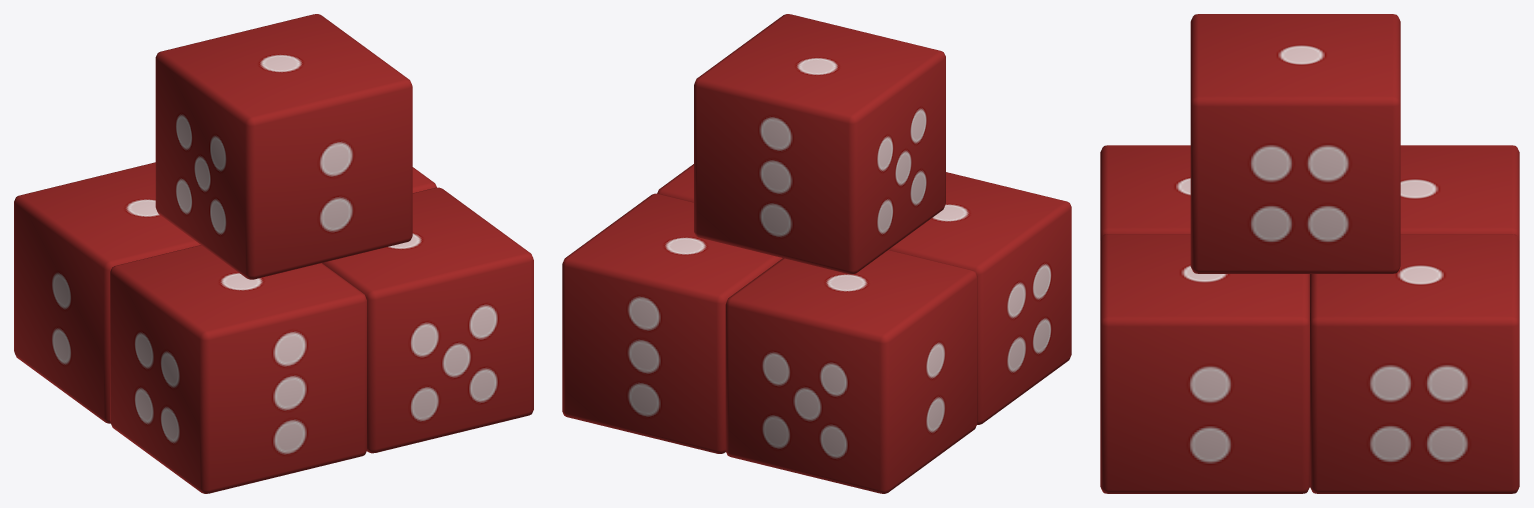
File: dice.FBX
3 views of the same model, side by side, from view 1: azimuth 30°, elevation 25°; view 2: azimuth 150°, elevation 25°; view 3: azimuth 270°, elevation 25° (orthographic). The views are drawn at different scales.
Parts seen in each view (by area): view 1: dice; view 2: dice; view 3: dice.
Part boxes in pixels (bbox=[...]): dice: bbox=[14, 14, 533, 493]; dice: bbox=[562, 14, 1071, 493]; dice: bbox=[1100, 14, 1519, 493].
Size of the model in its own units: 8 by 7.99 by 7.46.
Materials: 1 (1 with a texture image).
